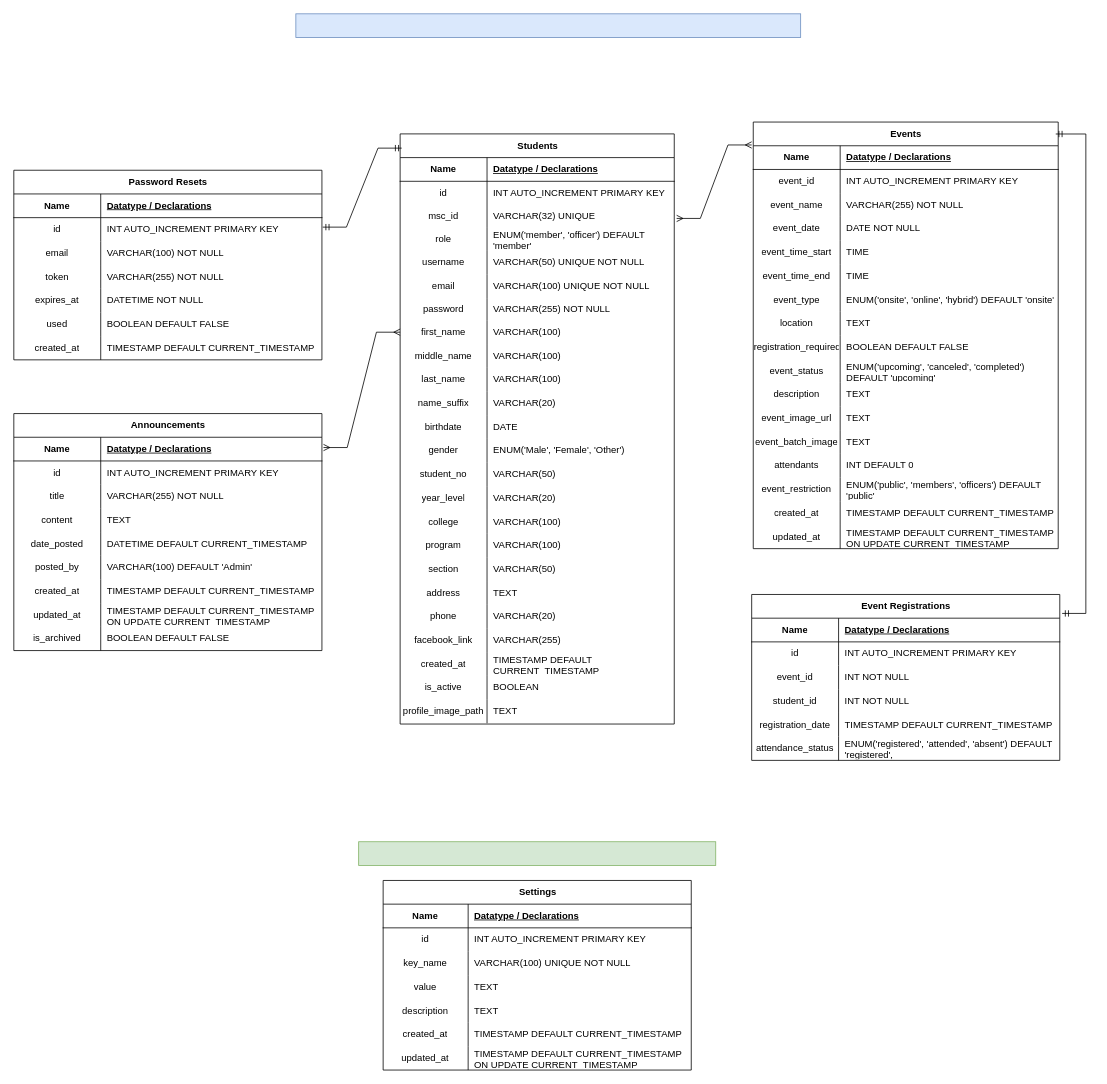
Image size: 1107x1084. Some labels were removed from this diagram. Each missing label, with the centre of its shape:
GENERAL MICROSOFT DATABASE SCHEMA: (548,25)
Utility: (537,853)
